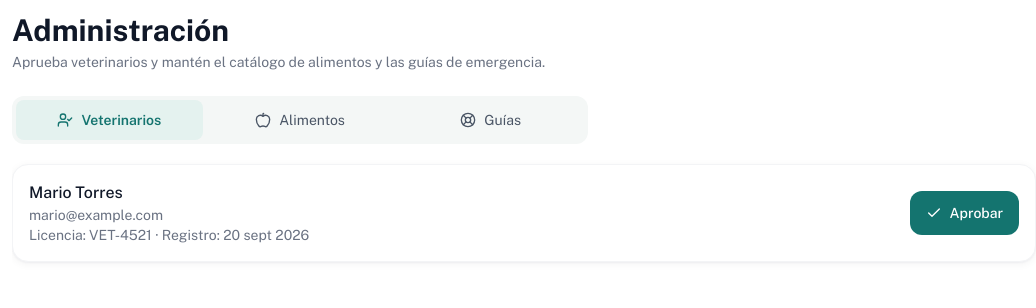
Test: AdminPanelPage › shows the error next to the veterinarian when approval fails
Click the button with aria-label "Aprobar a Mario Torres".
click(964, 213)  # box [910,191,1019,235]
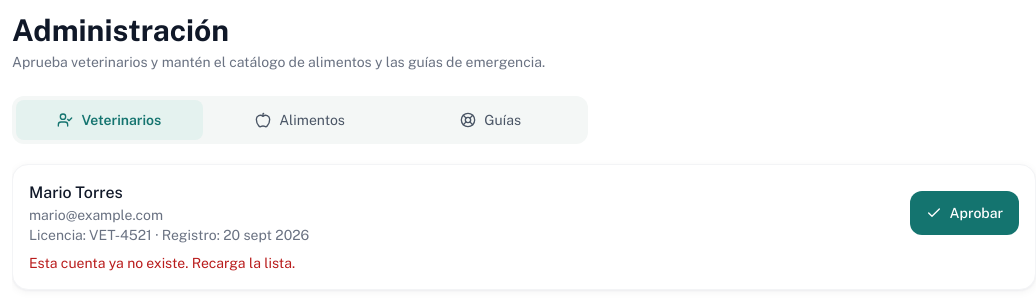
Expected: the text "Mario Torres" is shown, [29,183,123,202]
Now the text "Esta cuenta ya no existe. Recarga la lista." is shown, box [29,255,295,271]
